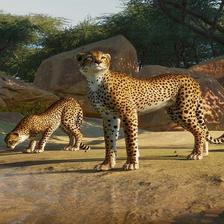Cheetah: (74, 49, 224, 171), (4, 96, 88, 156)
